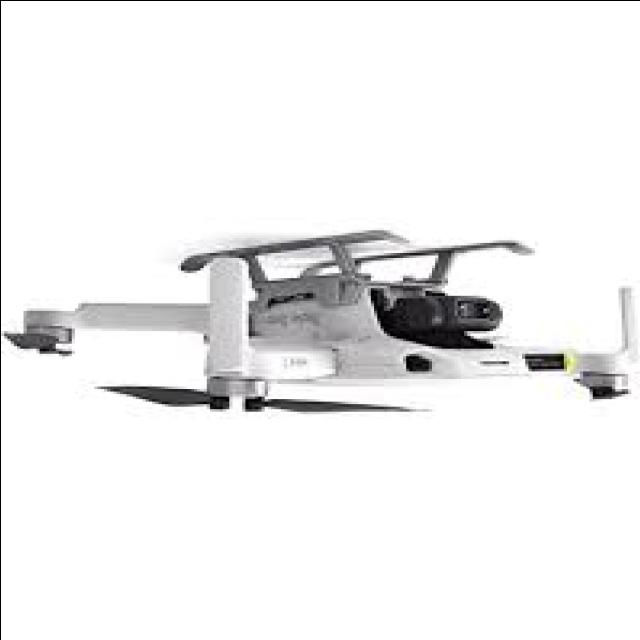drone: (0, 215, 640, 453)
